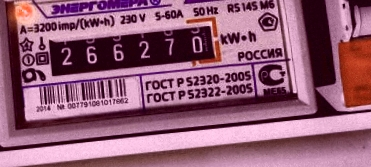0: (189, 33, 203, 55)
2: (58, 44, 74, 66), (137, 38, 151, 60)
6: (84, 44, 99, 65), (110, 41, 125, 61)
7: (162, 35, 176, 57)
screen: (37, 11, 229, 86)
